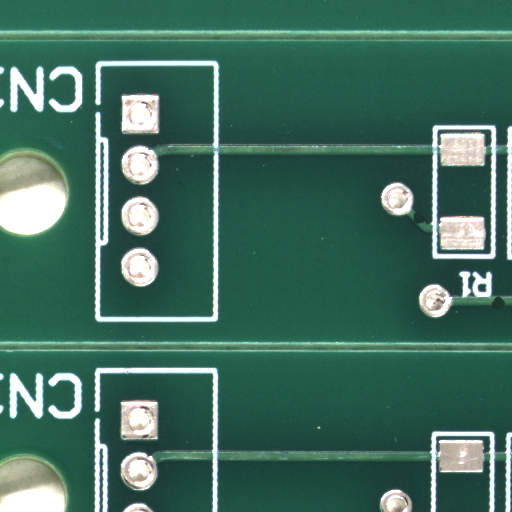Mouse_bite: (498, 302, 512, 312), (420, 218, 432, 229)
